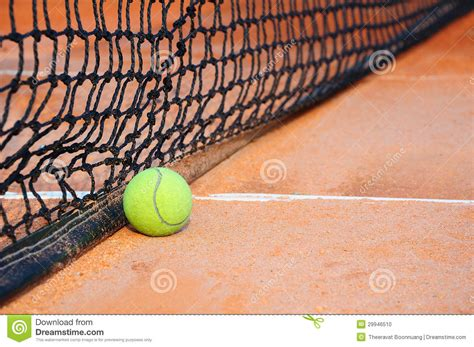tennis_ball: (122, 167, 193, 237)
